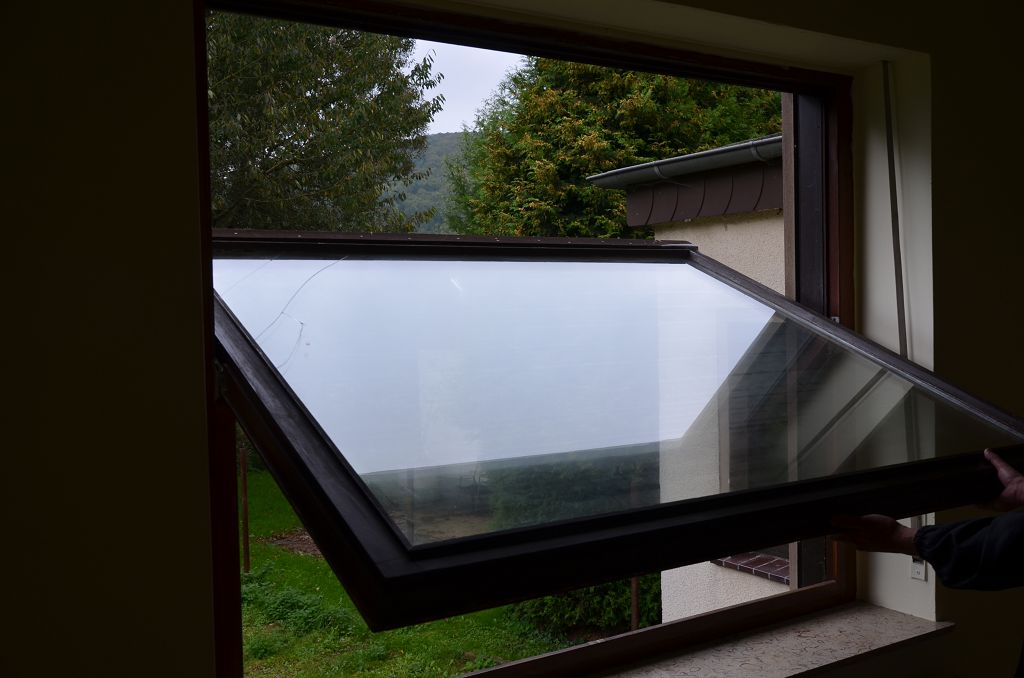windows: (208, 10, 926, 637)
